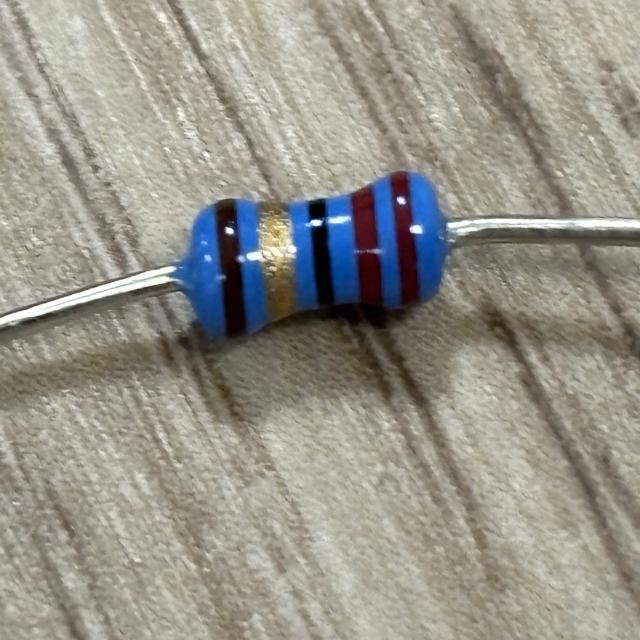resistor: (199, 168, 438, 345)
